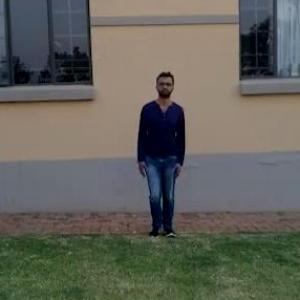follow: (135, 71, 187, 237)
